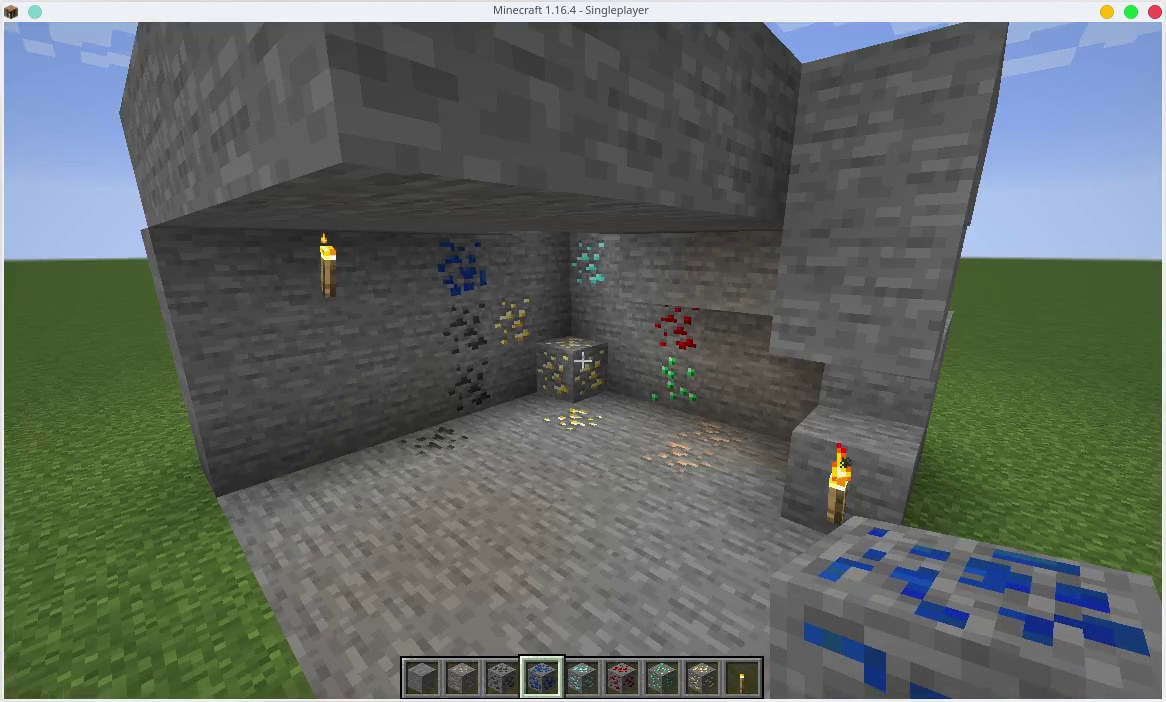gold: (538, 336, 610, 398), (493, 298, 534, 345), (538, 408, 613, 432)
